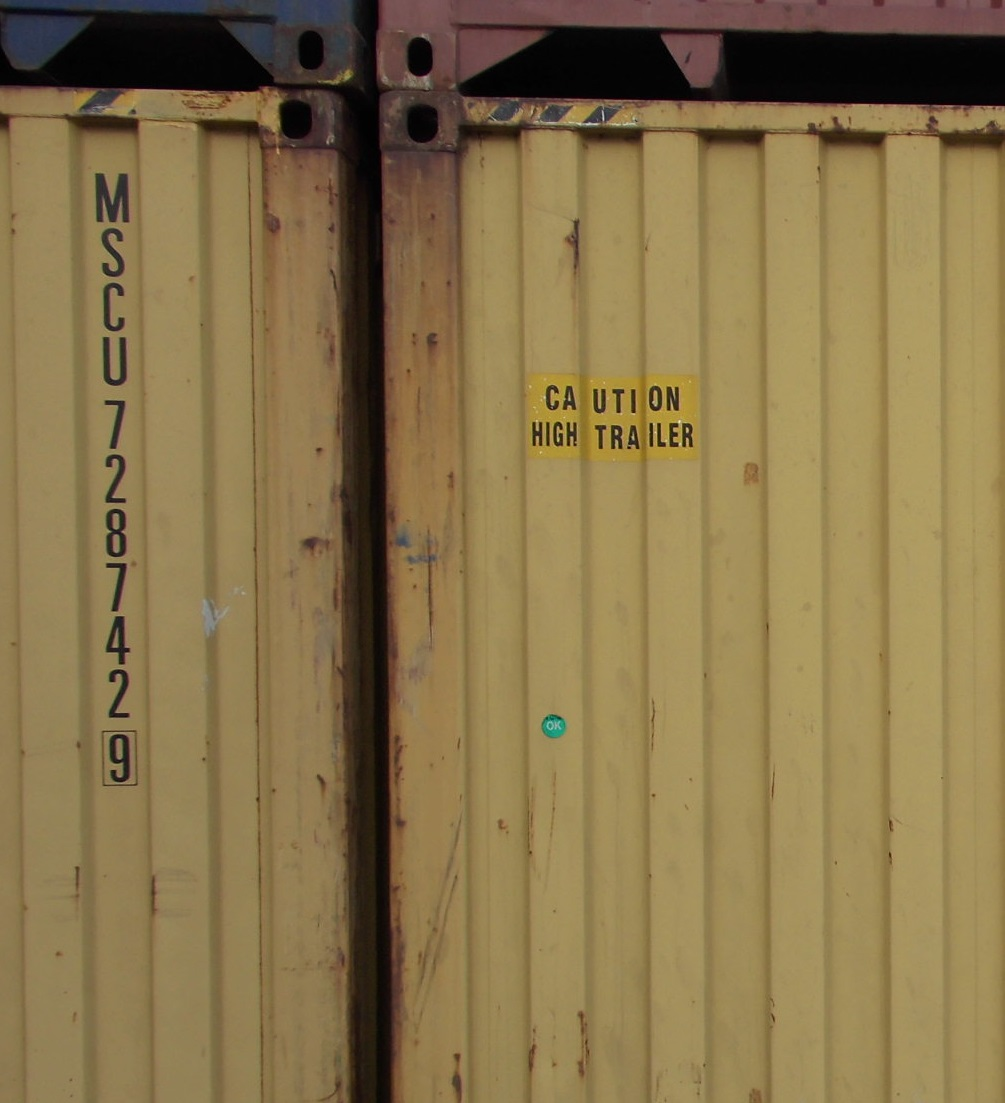container_no_door: (377, 84, 1005, 1100), (1, 86, 348, 1097)
